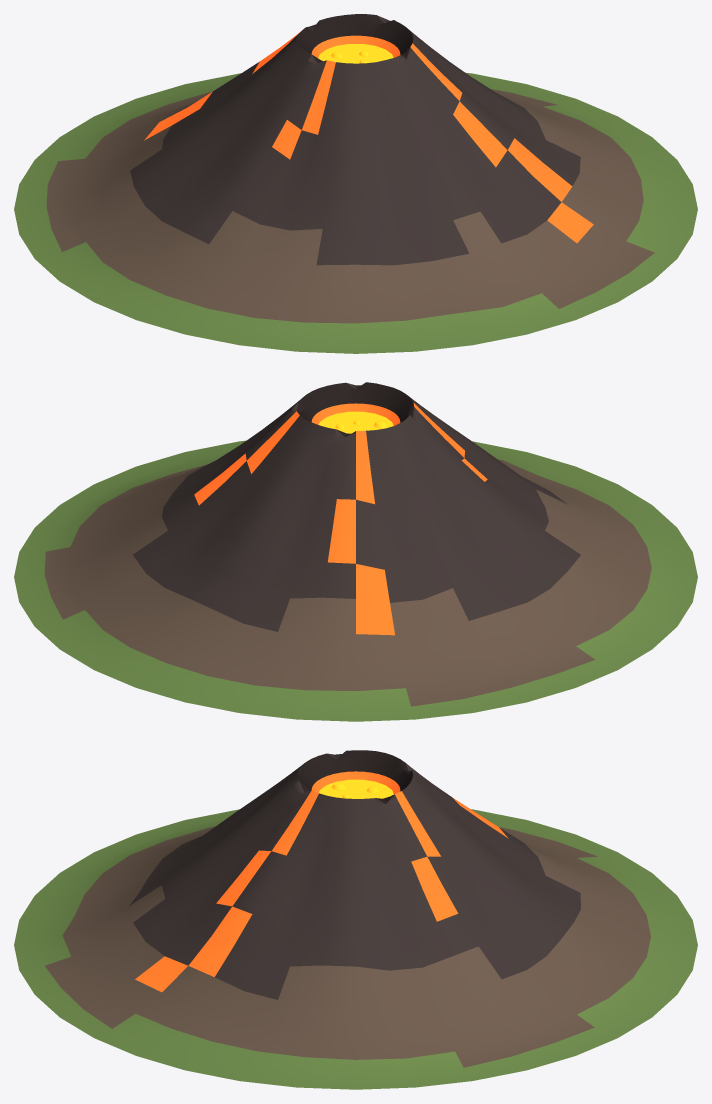
Rendered from volcano.glb.
3 views of the same model, one above another, from view 1: azimuth 30°, elevation 25°; view 2: azimuth 150°, elevation 25°; view 3: azimuth 270°, elevation 25° (orthographic).
Parts seen in each view (by area): view 1: body, crater; view 2: body, crater; view 3: body, crater.
Part boxes in pixels (x1=…): body: x1=14, y1=14, x2=697, y2=353; crater: x1=318, y1=44, x2=393, y2=63; body: x1=14, y1=382, x2=697, y2=721; crater: x1=319, y1=411, x2=393, y2=433; body: x1=14, y1=750, x2=697, y2=1089; crater: x1=319, y1=779, x2=393, y2=798.
Bounding box in the file's own units: 400 × 110 × 400.
